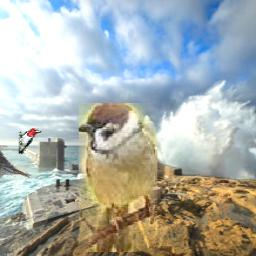Sparrow: (78, 104, 156, 253), (0, 136, 32, 184)
Woodpecker: (19, 128, 42, 154)
